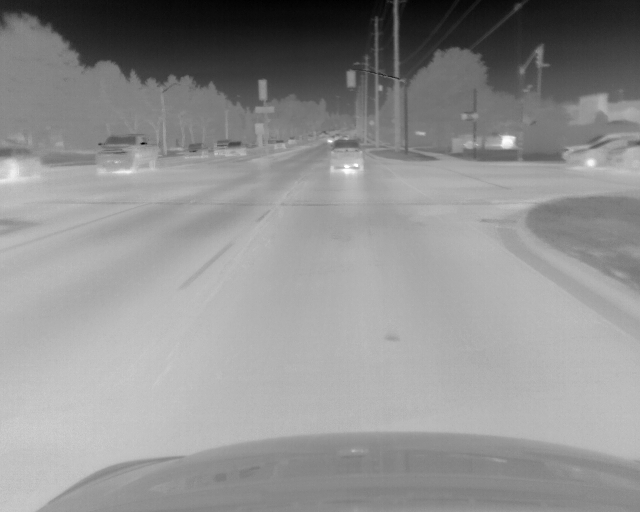car: (563, 132, 640, 164), (95, 135, 158, 172), (566, 138, 640, 167), (1, 145, 41, 180), (328, 140, 363, 174), (606, 144, 640, 166), (186, 142, 209, 159), (215, 138, 229, 157)
